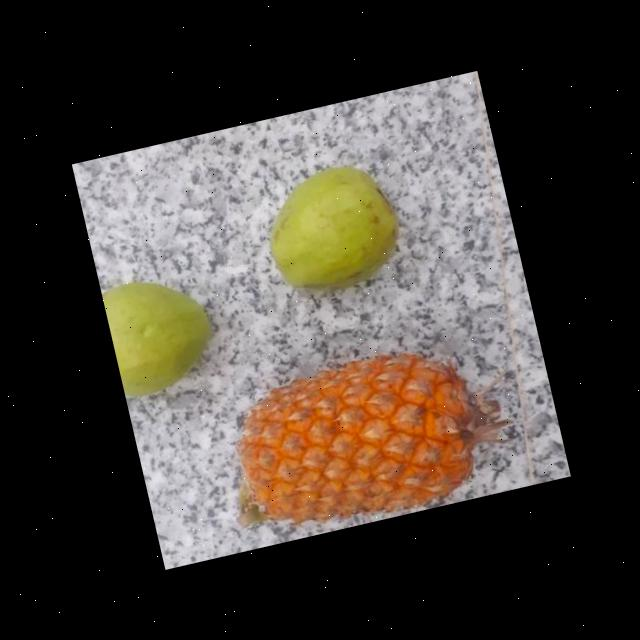guava: (263, 156, 409, 310), (99, 264, 222, 404)
pineapple: (209, 337, 499, 548)
